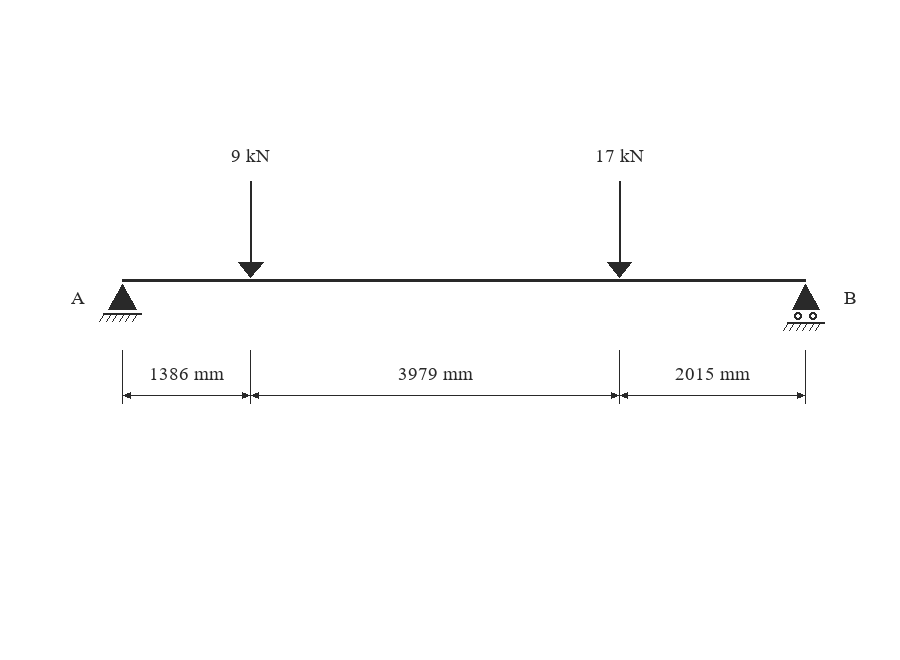pin_support: (99, 284, 142, 322)
point_load: (238, 181, 264, 278), (607, 181, 632, 278)
roller_support: (783, 284, 825, 331)
